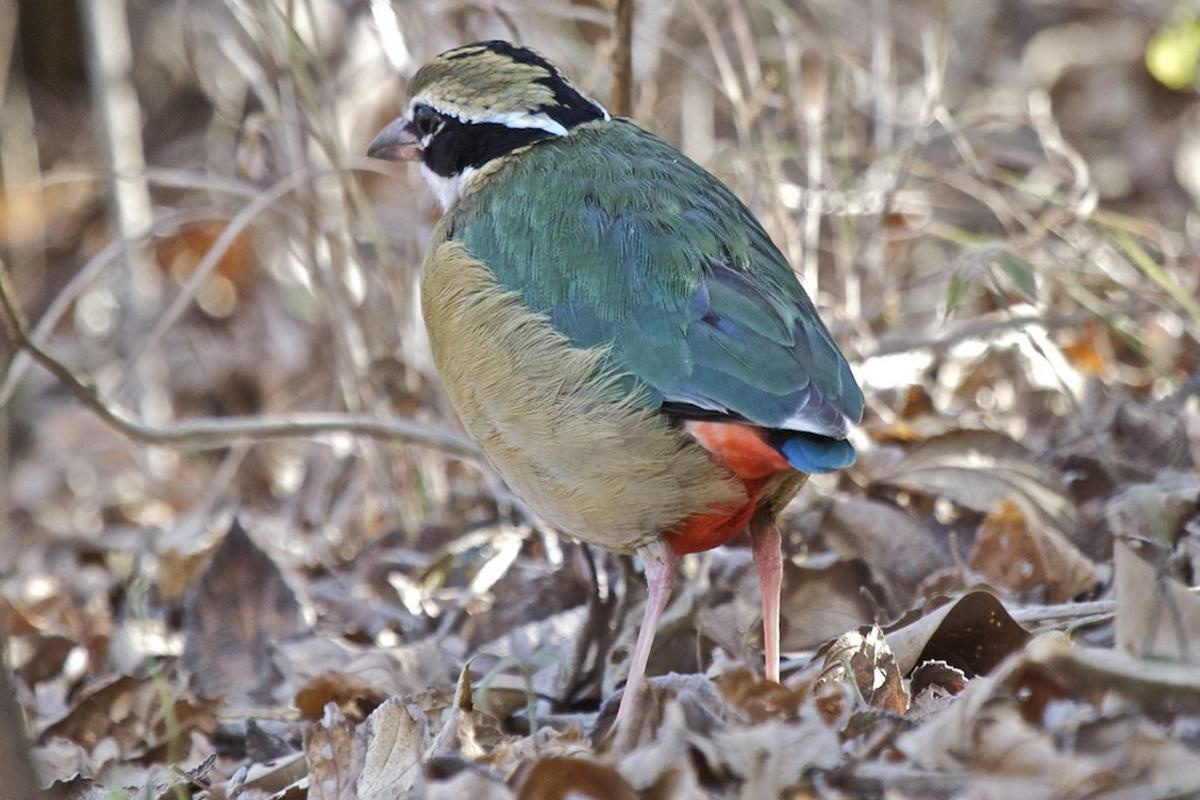pitta: (368, 47, 863, 694)
